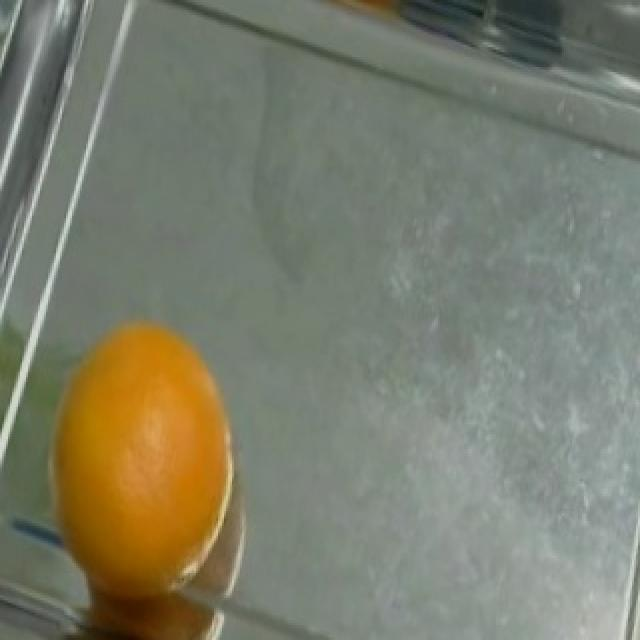Fruit: (16, 298, 262, 638)
